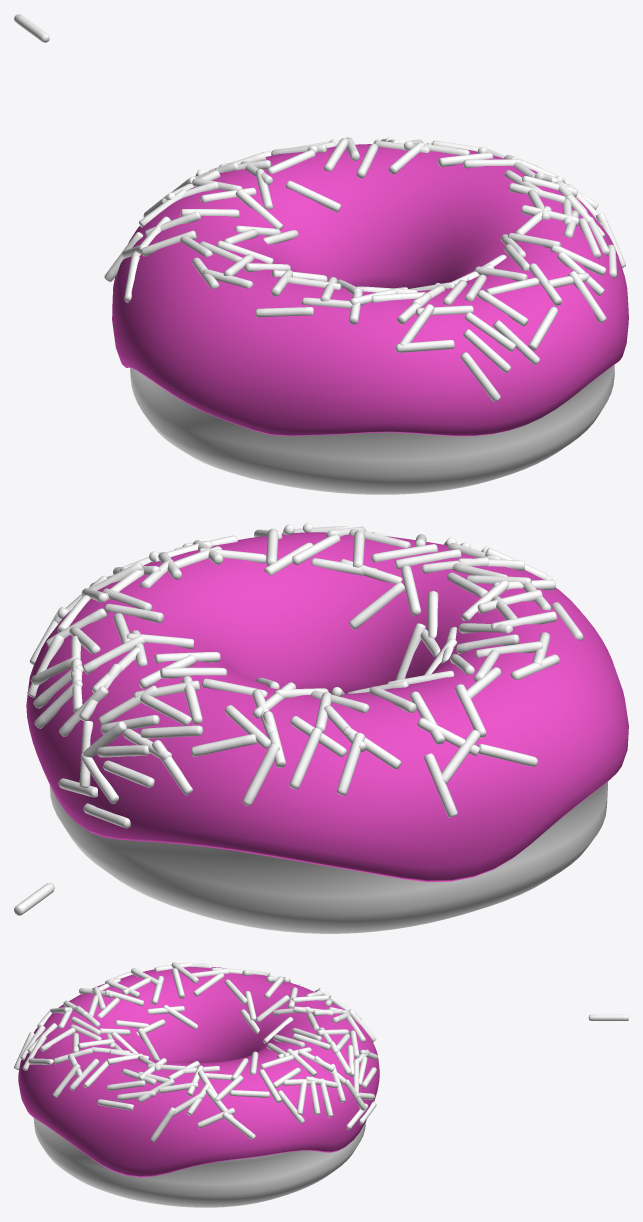
The model's file is donut-marie.gltf.
3 views of the same model, one above another, from view 1: azimuth 30°, elevation 25°; view 2: azimuth 150°, elevation 25°; view 3: azimuth 270°, elevation 25° (orthographic). The views are drawn at different scales.
Visible parts, largest first — view 1: Icing, Donut; view 2: Icing, Donut; view 3: Icing, Donut.
Part boxes in pixels (x1=…): Icing: x1=104, y1=137, x2=628, y2=436; Donut: x1=130, y1=365, x2=614, y2=494; Icing: x1=26, y1=523, x2=628, y2=881; Donut: x1=49, y1=781, x2=608, y2=933; Icing: x1=14, y1=962, x2=379, y2=1177; Donut: x1=33, y1=1118, x2=365, y2=1207.
Size of the model in its own units: 0.1007 by 0.0428 by 0.1711.
